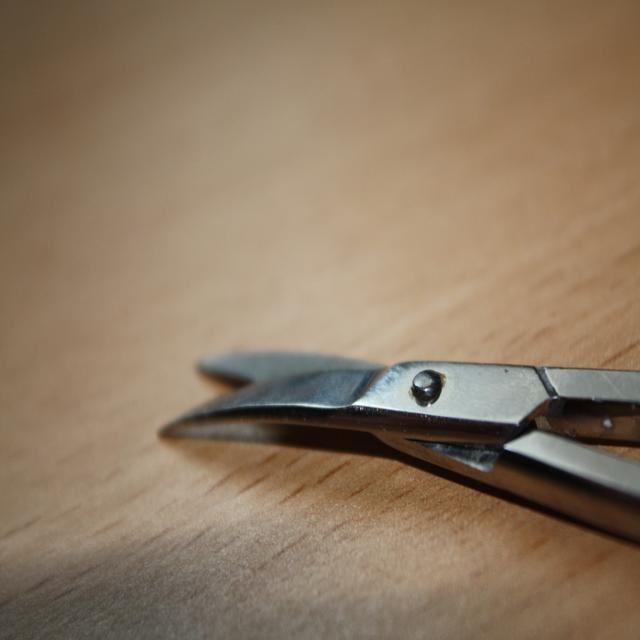scissors: (157, 346, 639, 542)
